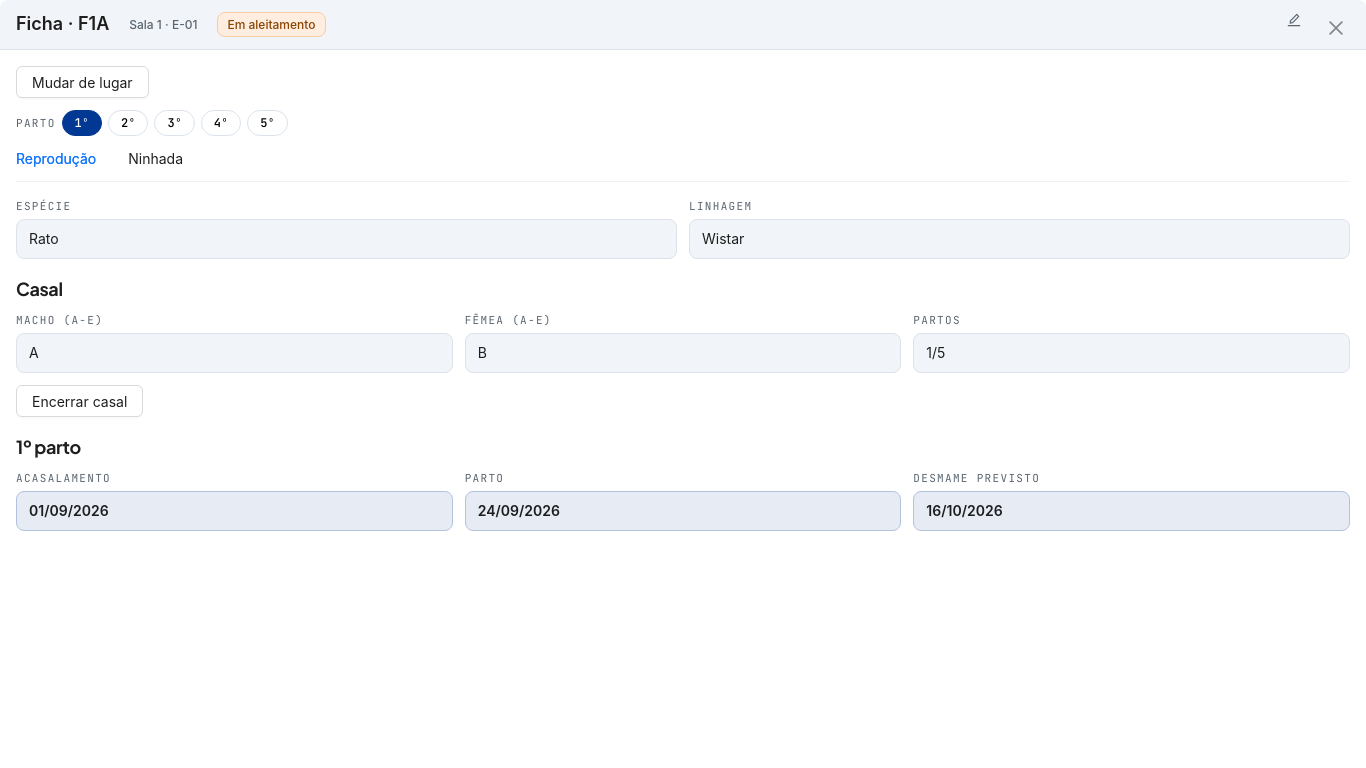
mudar a caixa de lugar e o atraso, na ficha › no celular, a caixa muda de lugar pela ficha: toca a posição vazia e confirma o destino
Later steps or results of the test are not shown.
Step 1. Click the button "Mudar de lugar" → (82, 82), box [16,66,149,98]
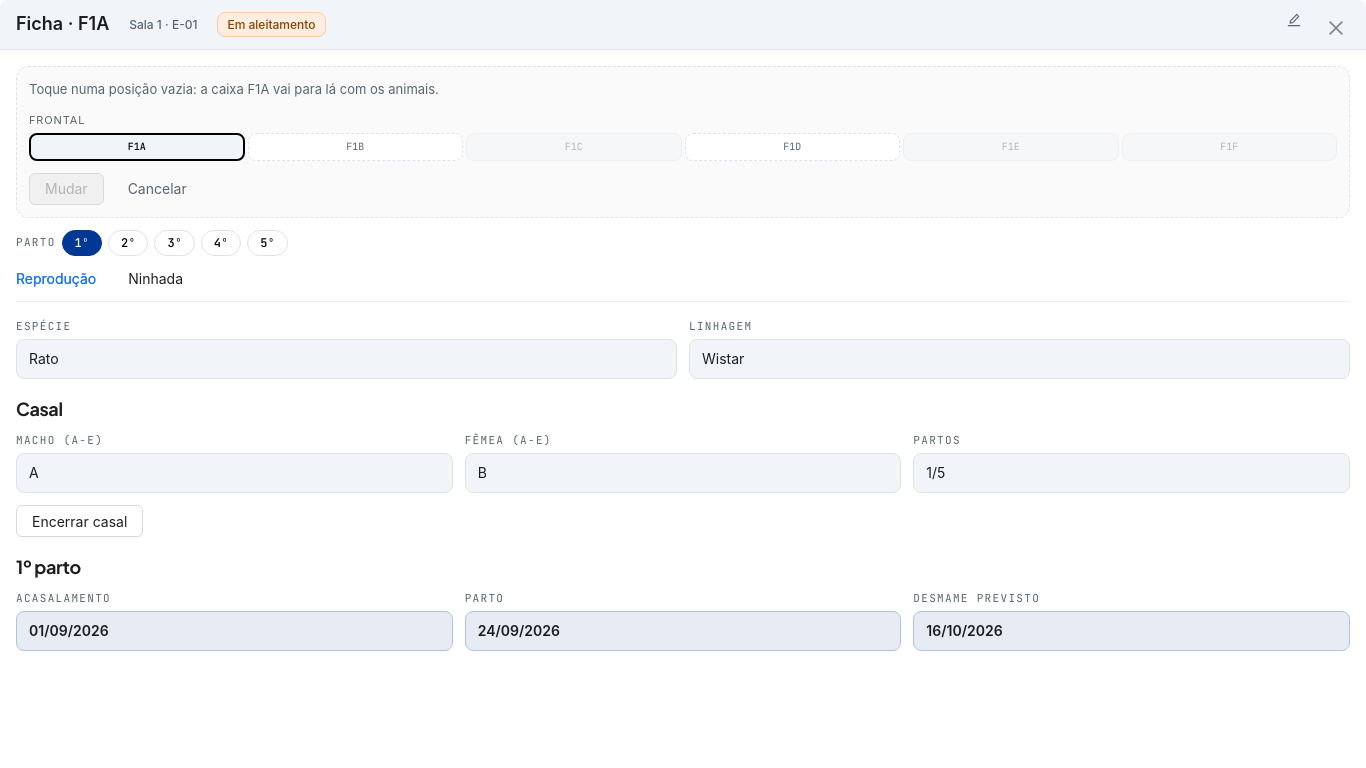
Expected: the button "Mudar" is disabled, [29,173,104,205]
Now the button titled "F1C: ocupada" is disabled, box [466,133,682,161]
Now the button titled "F1A: onde a caixa está" is disabled, box [29,133,244,161]
